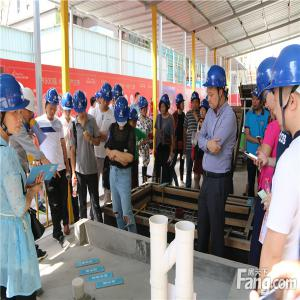blue: (274, 43, 300, 135), (2, 73, 25, 140), (257, 57, 281, 117), (205, 65, 228, 110), (73, 90, 89, 120), (45, 88, 60, 120), (115, 97, 129, 129), (101, 83, 114, 111), (61, 93, 74, 121), (253, 87, 264, 111), (176, 94, 187, 114), (159, 96, 170, 116), (140, 97, 150, 117), (129, 109, 139, 129), (201, 99, 210, 120), (191, 91, 200, 111), (96, 91, 102, 105)
none: (90, 97, 96, 109), (135, 93, 141, 103)
white: (22, 89, 38, 124)
